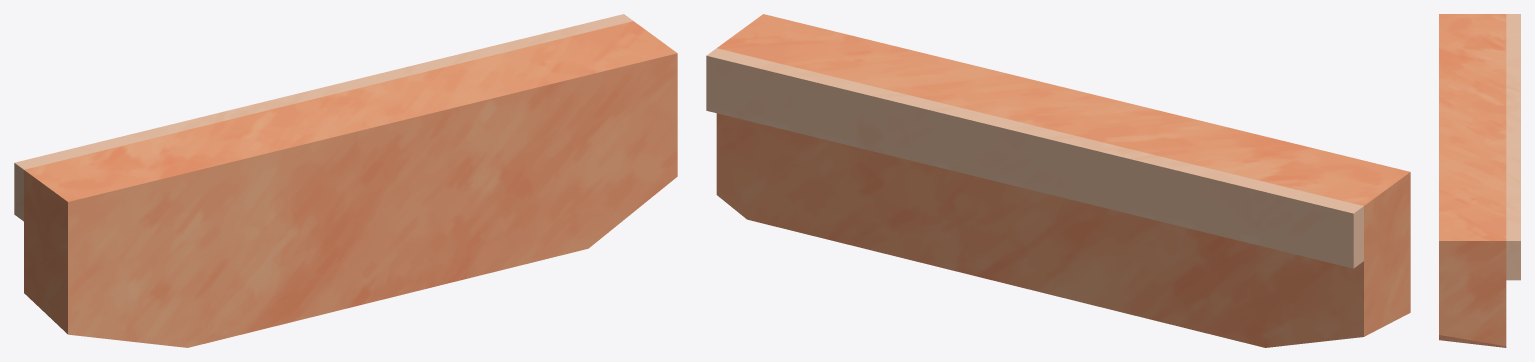
File: wall2_upper_door_s03.fbx
3 views of the same model, side by side, from view 1: azimuth 30°, elevation 25°; view 2: azimuth 150°, elevation 25°; view 3: azimuth 270°, elevation 25° (orthographic). The views are drawn at different scales.
Parts seen in each view (by area): view 1: wall2_upper_door_s03; view 2: wall2_upper_door_s03; view 3: wall2_upper_door_s03.
Part boxes in pixels (x1,y1,x2,y2): wall2_upper_door_s03: (14, 14, 677, 347); wall2_upper_door_s03: (706, 14, 1410, 347); wall2_upper_door_s03: (1439, 14, 1520, 347).
Size of the model in its own units: 8 by 2.2 by 1.22.
